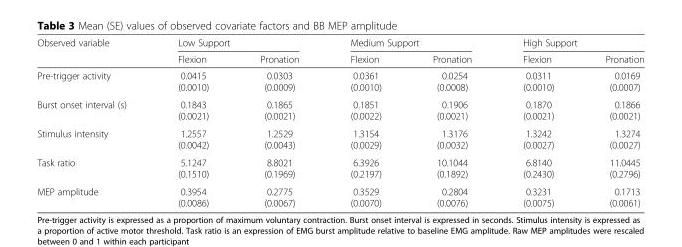table: (36, 36, 643, 208)
table column: (36, 36, 151, 208), (233, 36, 324, 208), (406, 36, 496, 208), (151, 36, 233, 208), (324, 36, 406, 208), (496, 36, 578, 208), (578, 36, 643, 208)
table column header: (36, 36, 643, 66)
table row: (36, 66, 643, 95), (36, 95, 643, 124), (36, 124, 643, 153), (36, 153, 643, 182), (36, 182, 643, 208), (36, 50, 643, 66), (36, 36, 643, 50)
table spanning cell: (36, 36, 151, 66), (151, 36, 324, 50), (324, 36, 496, 50), (496, 36, 643, 50)
